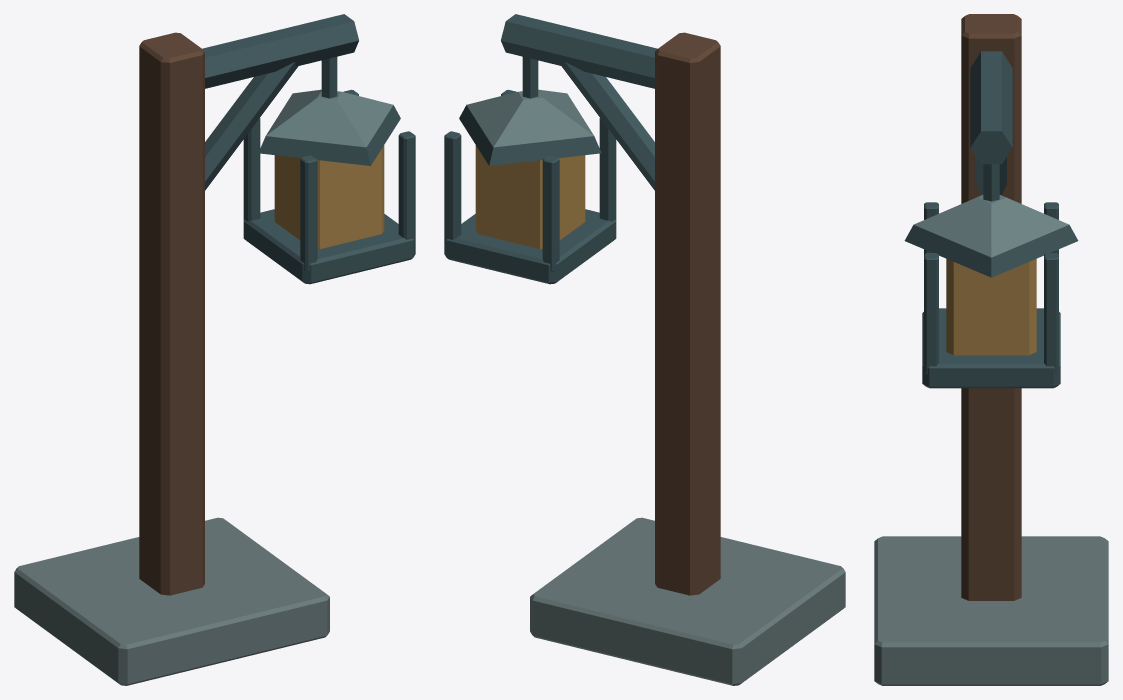
The model's file is lantern-post.glb.
3 renders of one model, left to right at view 1: azimuth 30°, elevation 25°; view 2: azimuth 150°, elevation 25°; view 3: azimuth 270°, elevation 25°, orthographic. The views are drawn at different scales.
Visible parts, largest first — view 1: lantern-post__body; view 2: lantern-post__body; view 3: lantern-post__body.
Boxes of the visible parts, box(x1,y1,x2,y2) form: lantern-post__body: box(14, 14, 415, 685); lantern-post__body: box(444, 14, 845, 685); lantern-post__body: box(874, 14, 1108, 685).
Size of the model in its own units: 0.68 by 1.12 by 0.39.
